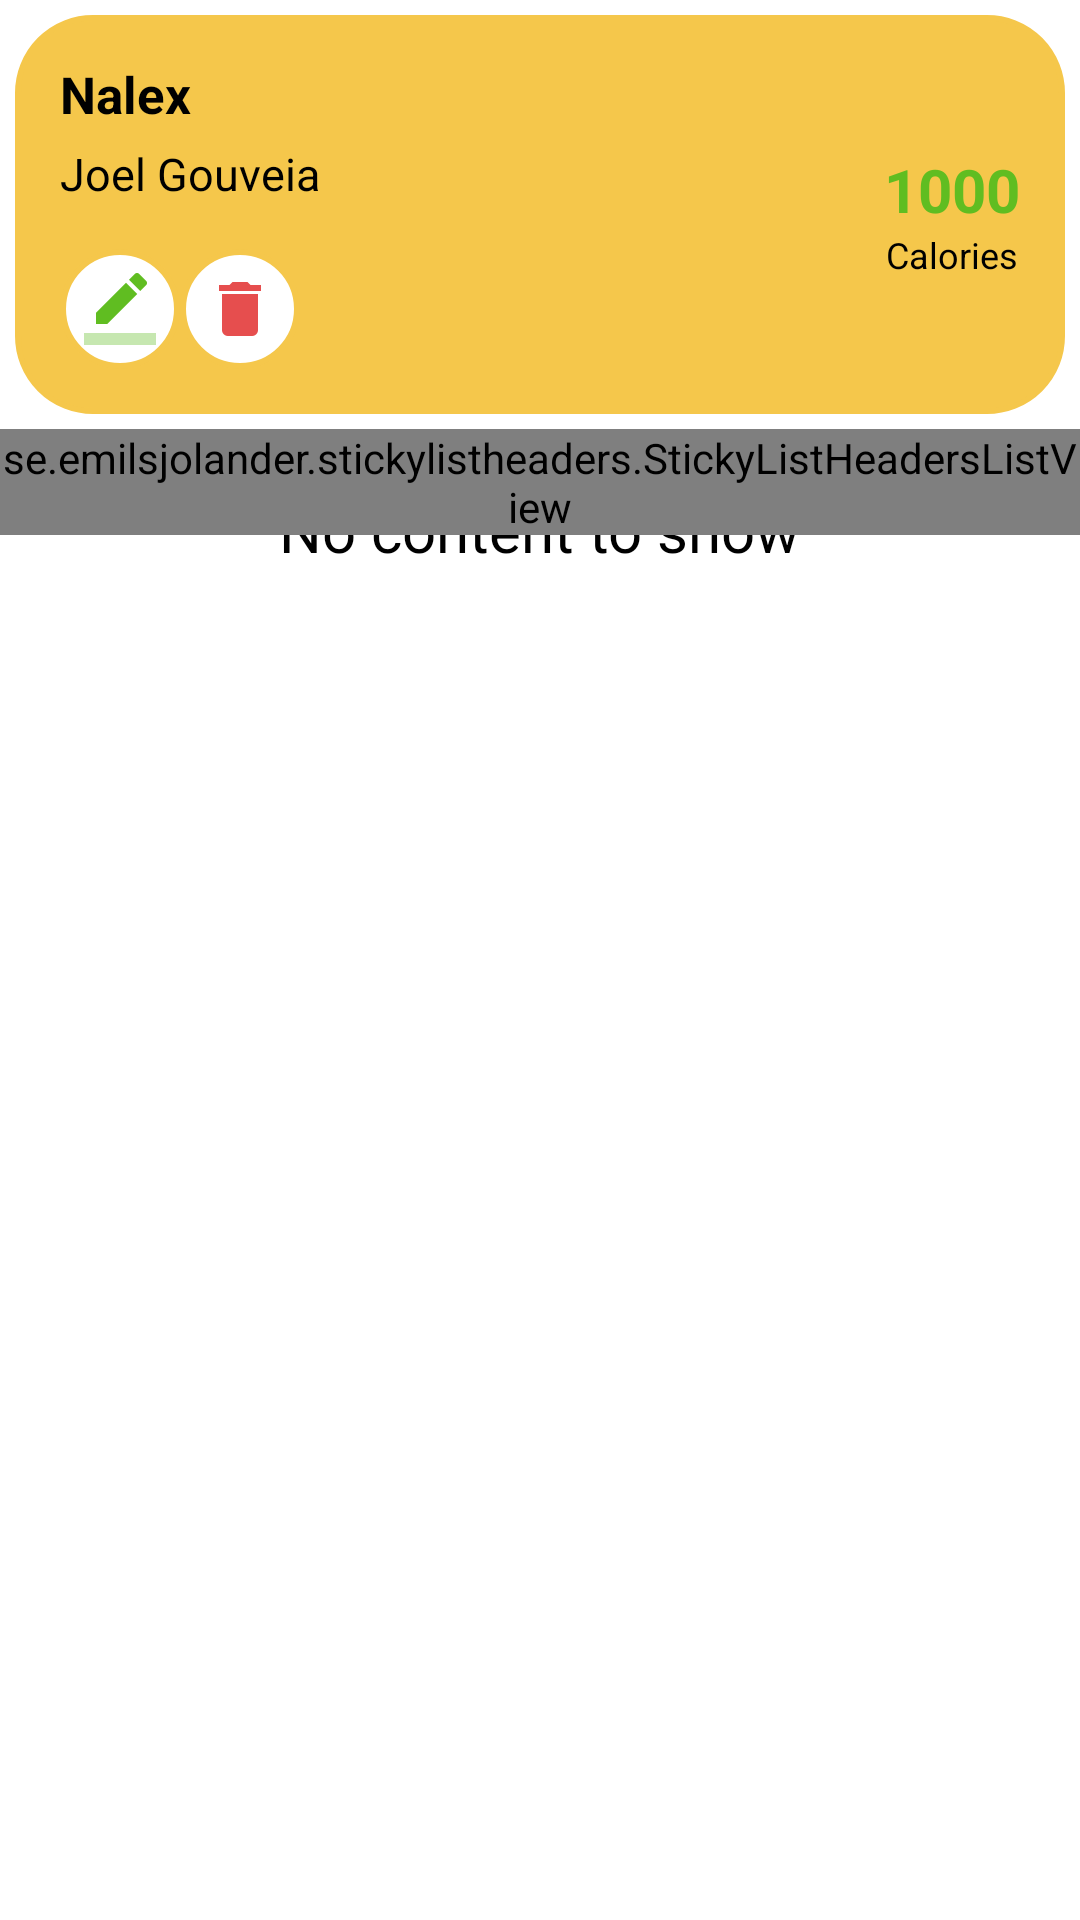

Where icons sit on this 1080 x 1920 app screen, as (x1, y1, x2, y2):
Delete: (186, 255, 294, 363)
Edit: (66, 255, 174, 363)
